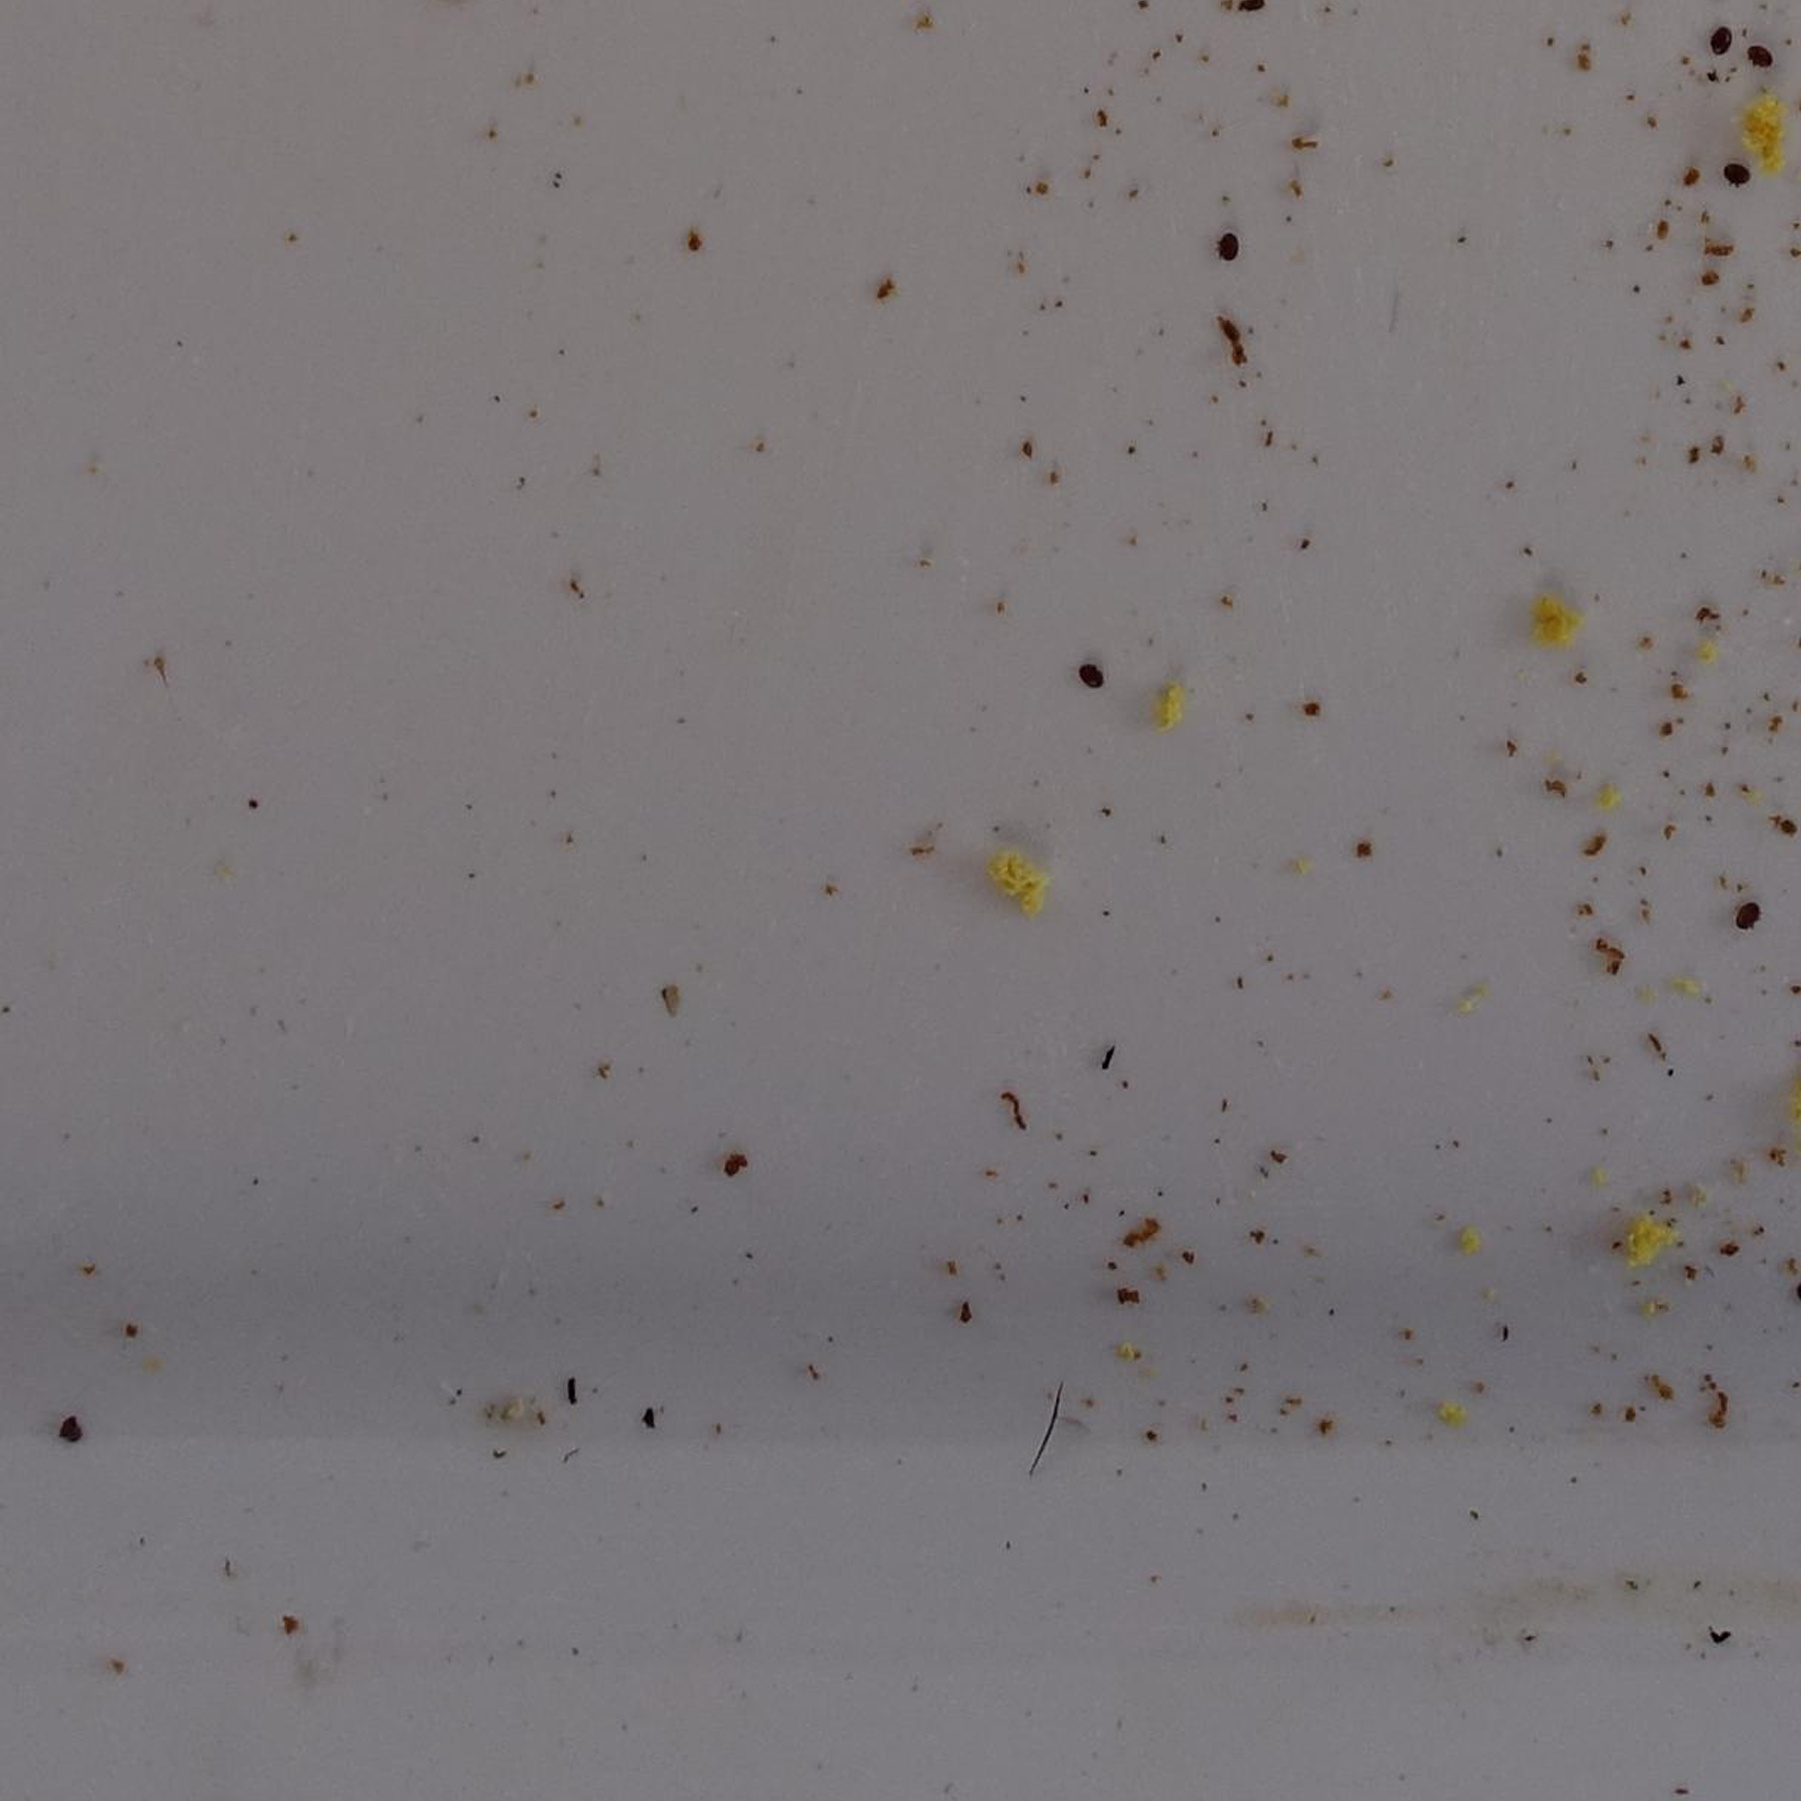Varroa: (1079, 651, 1107, 683), (1733, 896, 1758, 924), (1728, 157, 1753, 183), (1217, 241, 1244, 266), (1709, 30, 1732, 54), (1753, 41, 1776, 64)
